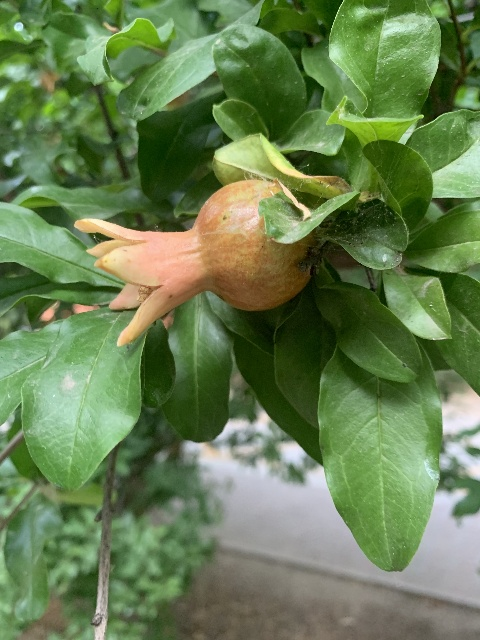early-fruit: (78, 180, 313, 345)
